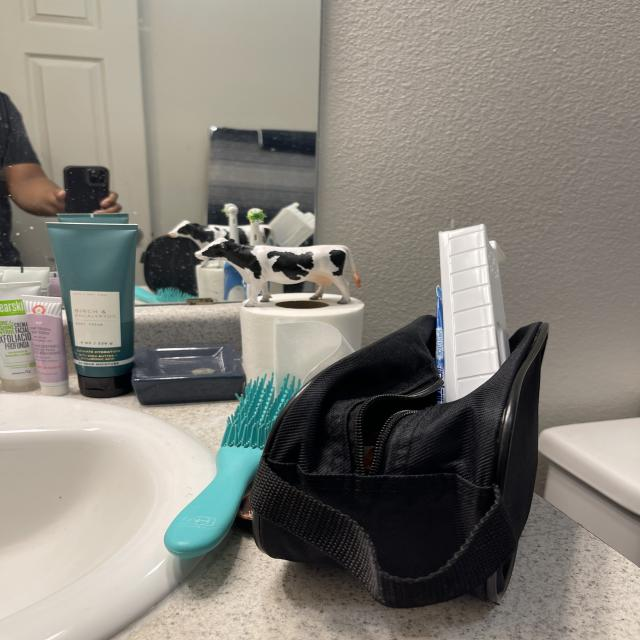cow: (192, 237, 355, 313)
